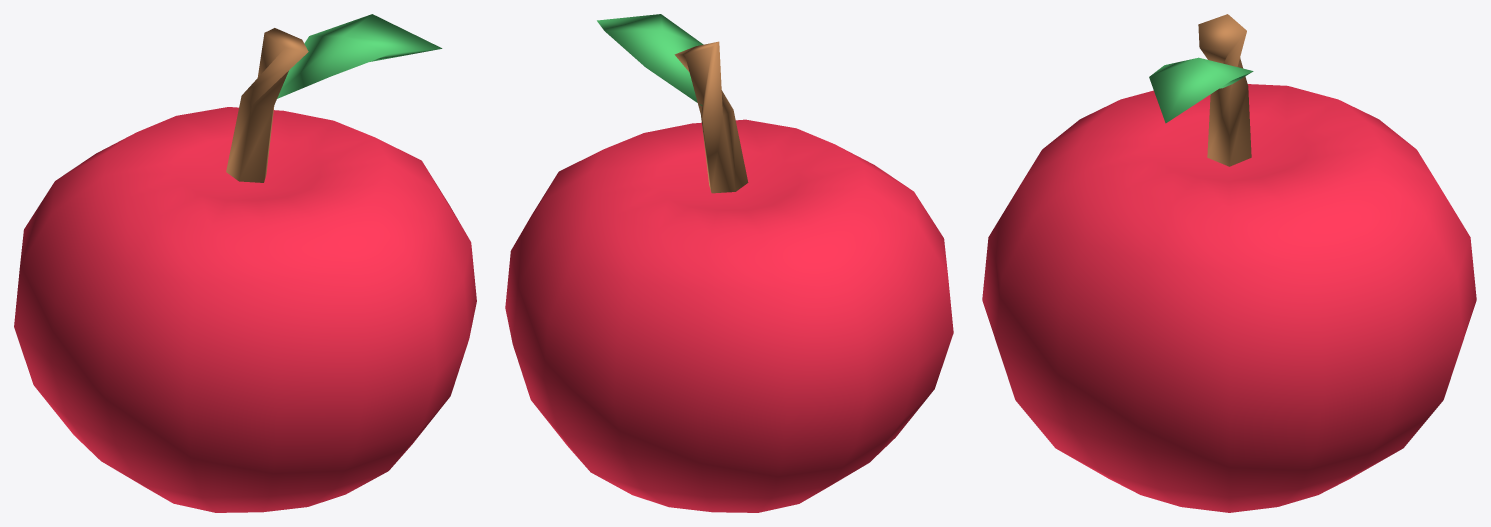
The model's file is apple.glb.
3 views of the same model, side by side, from view 1: azimuth 30°, elevation 25°; view 2: azimuth 150°, elevation 25°; view 3: azimuth 270°, elevation 25° (orthographic). The views are drawn at different scales.
Visible parts, largest first — view 1: apple; view 2: apple; view 3: apple.
Part boxes in pixels (x1,y1,x2,y2): apple: [14, 14, 476, 512]; apple: [505, 14, 953, 512]; apple: [982, 14, 1476, 512].
Size of the model in its own units: 0.276 by 0.2861 by 0.276.
